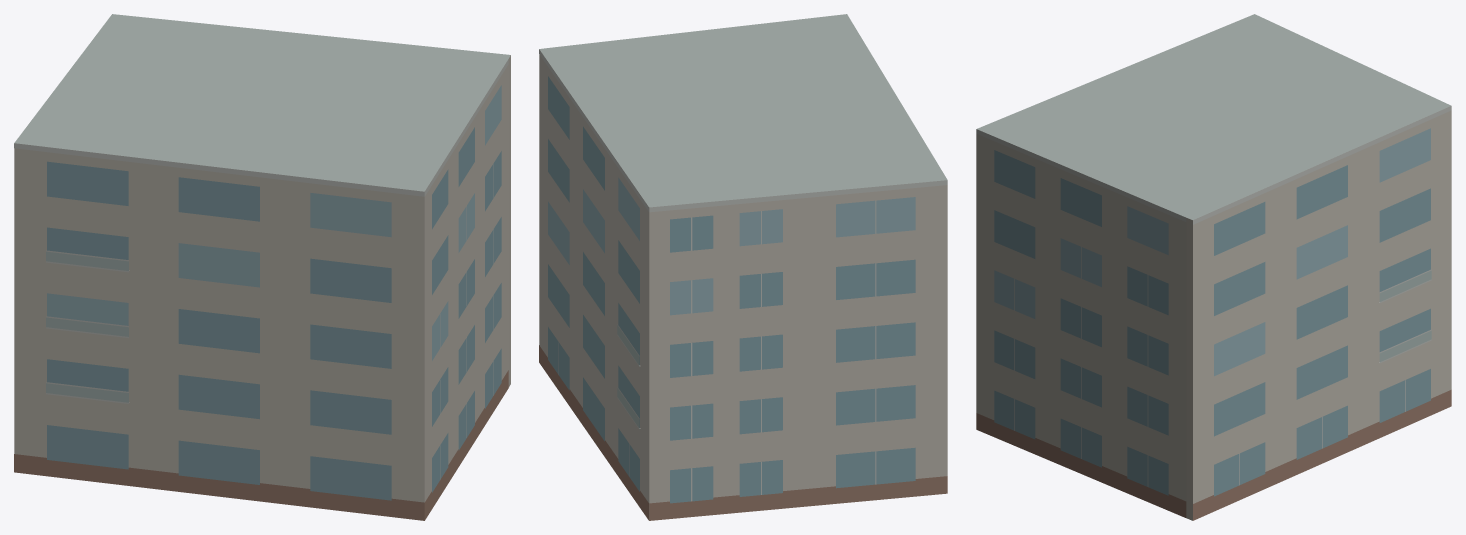
The model's file is survey-upis-32917882.glb.
3 views of the same model, side by side, from view 1: azimuth 30°, elevation 25°; view 2: azimuth 150°, elevation 25°; view 3: azimuth 270°, elevation 25° (orthographic). The views are drawn at different scales.
Visible parts, largest first — view 1: survey-upis-32917882.tmp; view 2: survey-upis-32917882.tmp; view 3: survey-upis-32917882.tmp.
Part boxes in pixels (box(x1,y1,x2,y2)): survey-upis-32917882.tmp: box(14, 14, 510, 520); survey-upis-32917882.tmp: box(539, 14, 947, 520); survey-upis-32917882.tmp: box(976, 14, 1451, 520).
Size of the model in its own units: 23.11 by 15.7 by 22.5.
